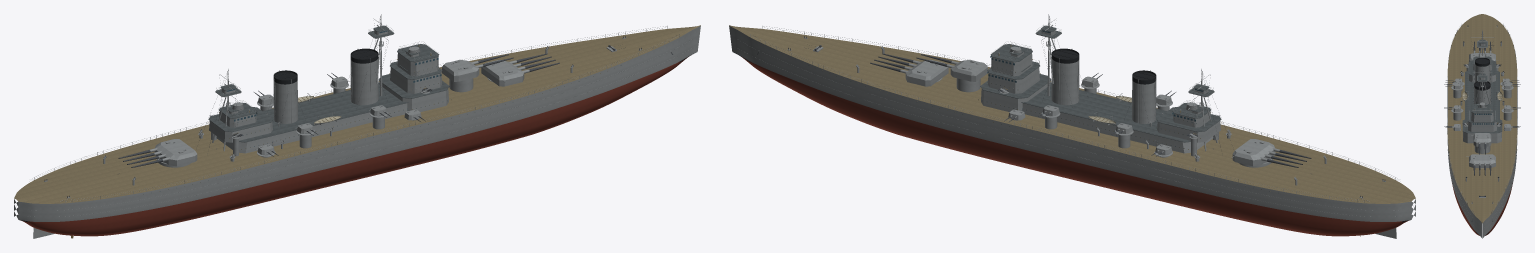
The model's file is demo-duke-of-york.glb.
3 renders of one model, left to right at view 1: azimuth 30°, elevation 25°; view 2: azimuth 150°, elevation 25°; view 3: azimuth 270°, elevation 25°, orthographic. The views are drawn at different scales.
Parts seen in each view (by area): view 1: HMS Duke of York — King George V class; view 2: HMS Duke of York — King George V class; view 3: HMS Duke of York — King George V class.
Part boxes in pixels (left/top/right/bottom): HMS Duke of York — King George V class: left=14, top=14, right=700, bottom=238; HMS Duke of York — King George V class: left=729, top=14, right=1415, bottom=238; HMS Duke of York — King George V class: left=1444, top=14, right=1520, bottom=238.
Bounding box in the file's own units: 227 × 45.03 × 34.48.
9 materials, 8 textured.
